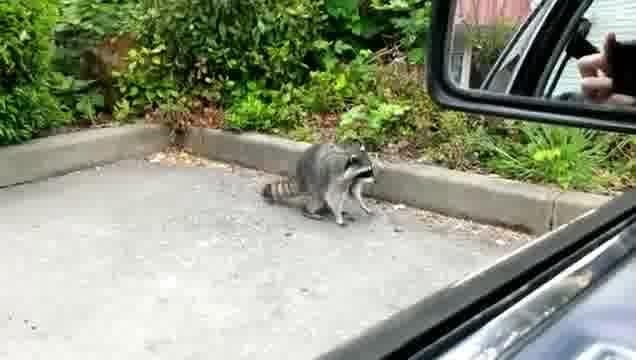raccoon: (260, 141, 377, 227)
